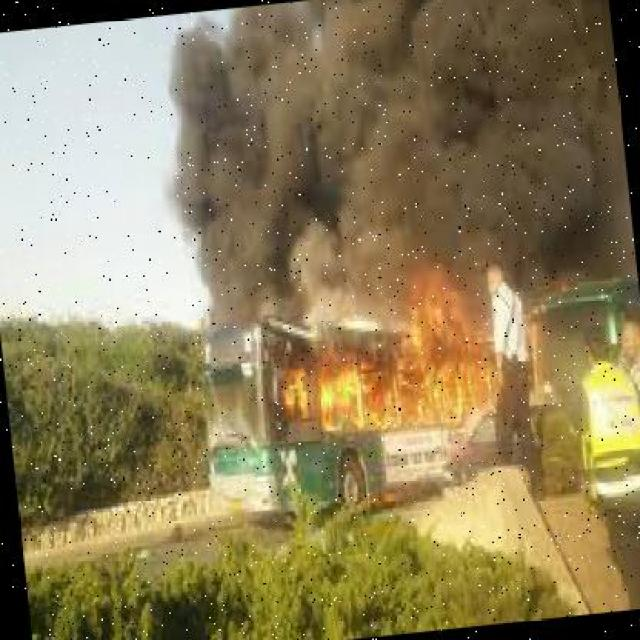fire: (253, 245, 522, 452)
